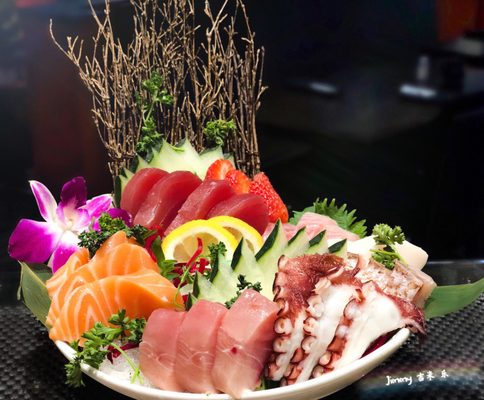sushi: (10, 136, 460, 397), (421, 259, 484, 321)
